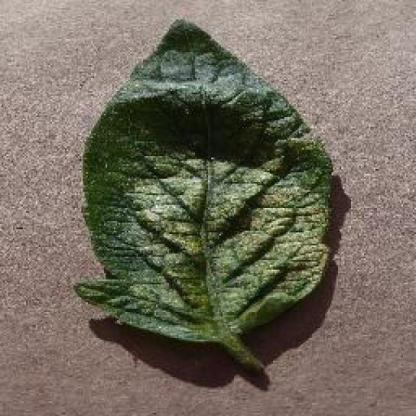Tomato_Spider_Mites: (79, 22, 332, 334)
